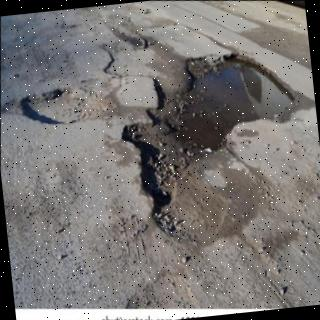pothole: (122, 53, 315, 236), (21, 88, 114, 124)
